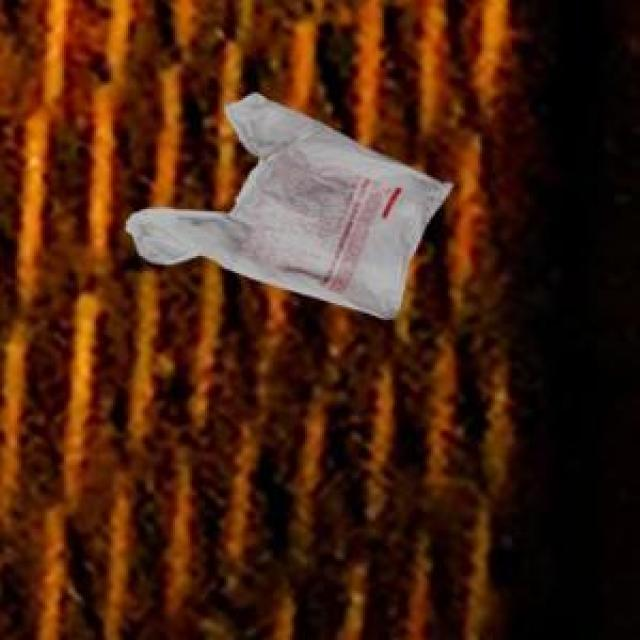waste: (126, 92, 452, 318)
